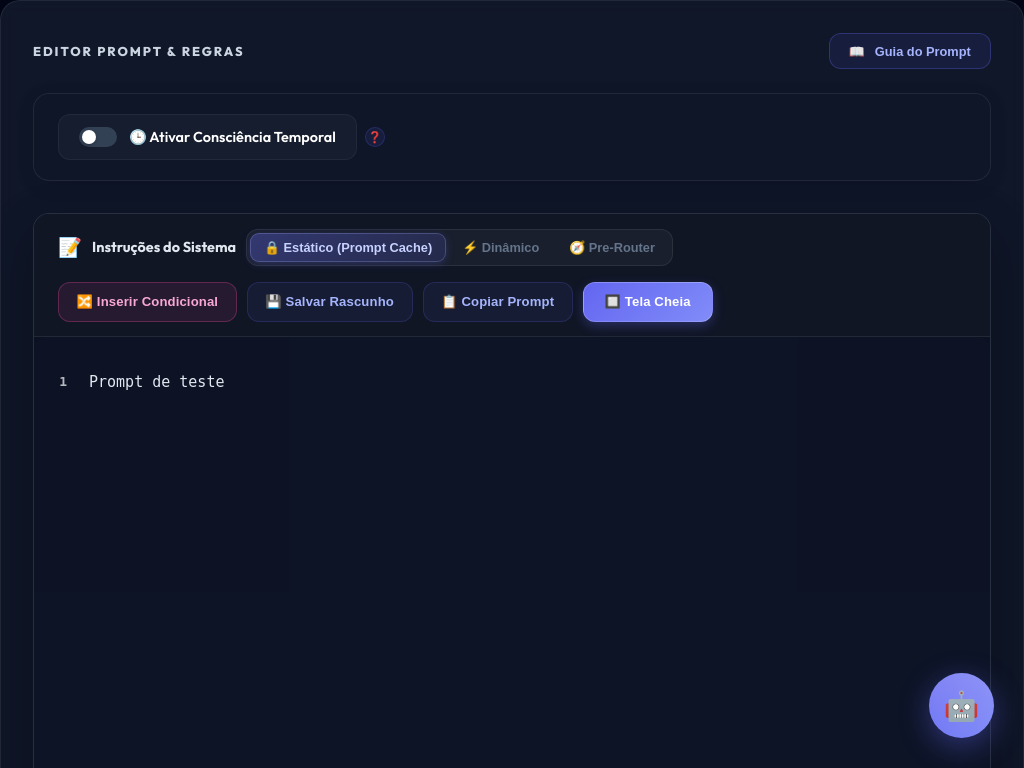
Test case: TabPrompts Component › deve abrir o modal explicativo de consciência temporal ao clicar no botão de interrogação ❓
Step 1. Click the button titled "Saiba mais sobre a Consciência Temporal" → (375, 137), box [365, 127, 385, 147]
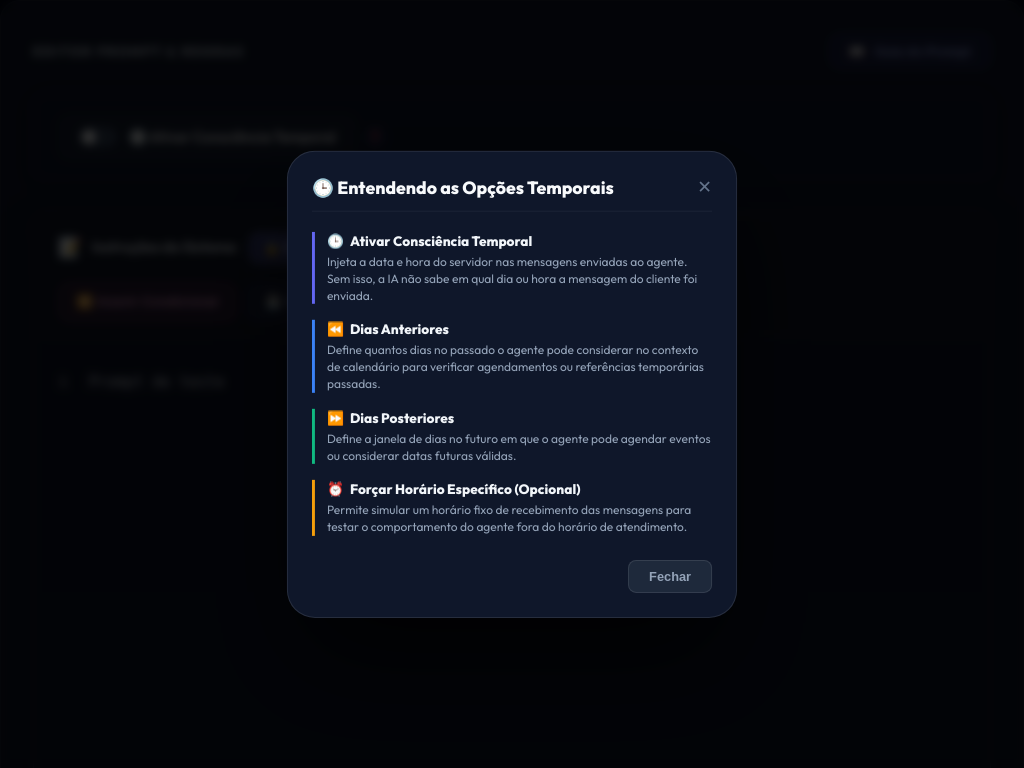
Now the heading "🕒 Entendendo as Opções Temporais" is shown, box [312, 176, 614, 198]
Now the text "⏰ Forçar Horário Específico (Opcional)" is shown, box [327, 480, 580, 498]
